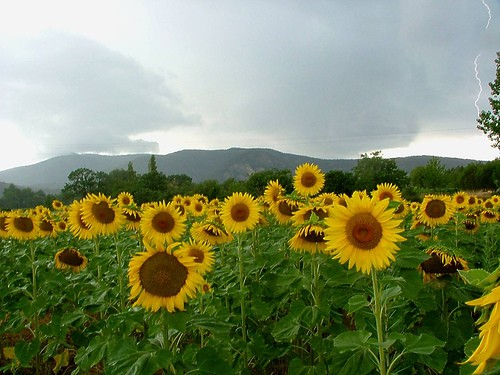flower: (320, 189, 407, 275), (123, 237, 215, 316), (137, 198, 188, 250), (77, 192, 129, 240), (219, 191, 265, 236)
